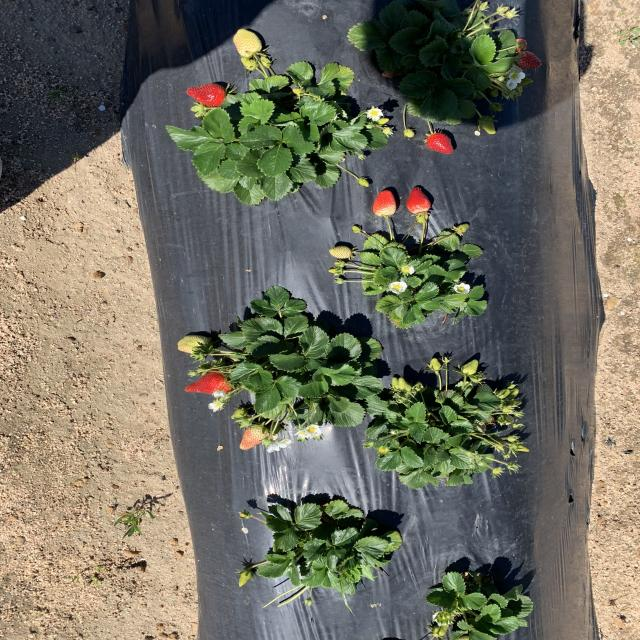unripe: (184, 370, 234, 396), (186, 81, 232, 108), (406, 187, 434, 213), (424, 130, 453, 154), (373, 190, 397, 215), (515, 50, 541, 68)
